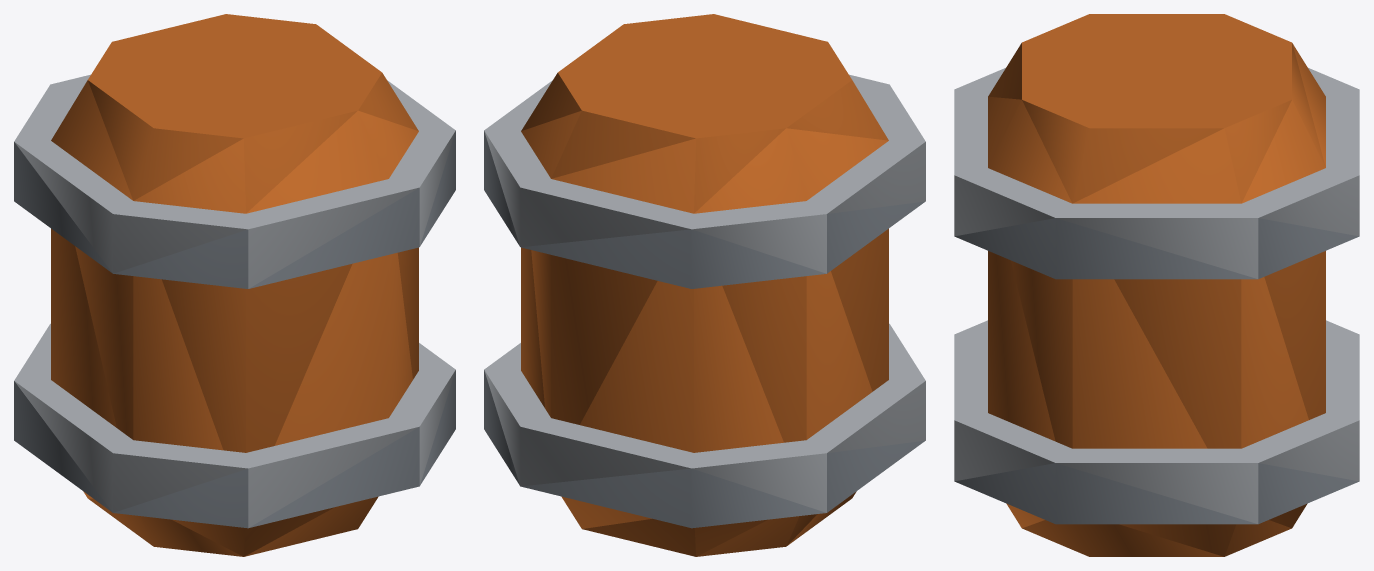
Rendered from Kit_container-wide.fbx.
3 renders of one model, left to right at view 1: azimuth 30°, elevation 25°; view 2: azimuth 150°, elevation 25°; view 3: azimuth 270°, elevation 25°, orthographic. The views are drawn at different scales.
Visible parts, largest first — view 1: Kit_container-wide; view 2: Kit_container-wide; view 3: Kit_container-wide.
Boxes of the visible parts, left/top/right/bottom form: Kit_container-wide: left=14, top=14, right=455, bottom=556; Kit_container-wide: left=484, top=14, right=925, bottom=556; Kit_container-wide: left=954, top=14, right=1359, bottom=556.
Bounding box in the file's own units: 0.6 × 0.7 × 0.6.
